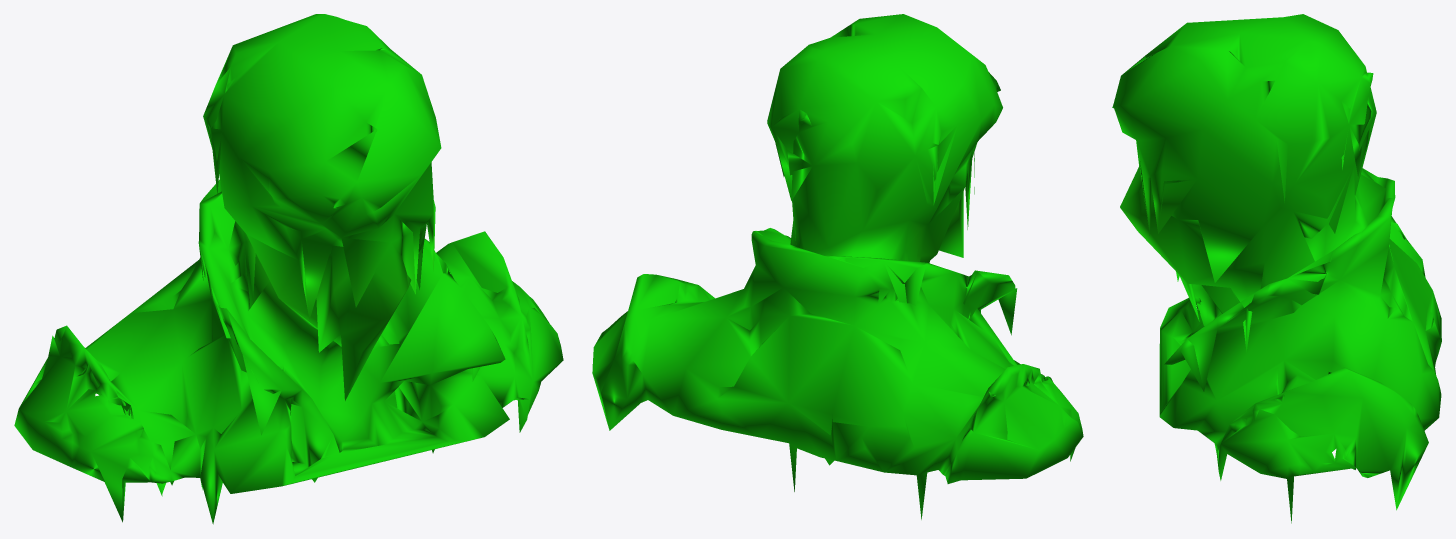
File: head_f.glb
3 views of the same model, side by side, from view 1: azimuth 30°, elevation 25°; view 2: azimuth 150°, elevation 25°; view 3: azimuth 270°, elevation 25° (orthographic). The views are drawn at different scales.
Parts seen in each view (by area): view 1: head_f; view 2: head_f; view 3: head_f.
Part boxes in pixels (x1,y1,x2,y2): head_f: (14, 14, 563, 524); head_f: (592, 14, 1083, 519); head_f: (1112, 14, 1441, 523).
Bounding box in the file's own units: 0.5787 × 0.4705 × 0.3604.
